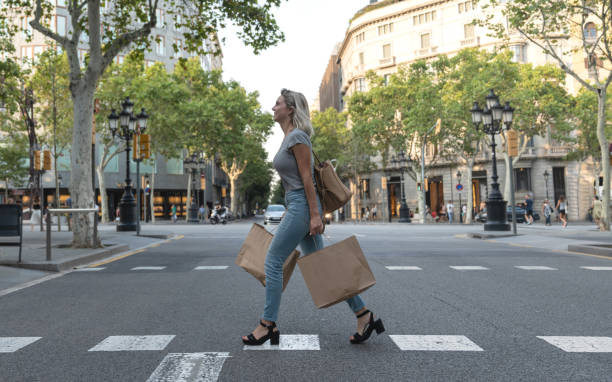yaya: (234, 82, 391, 351)
